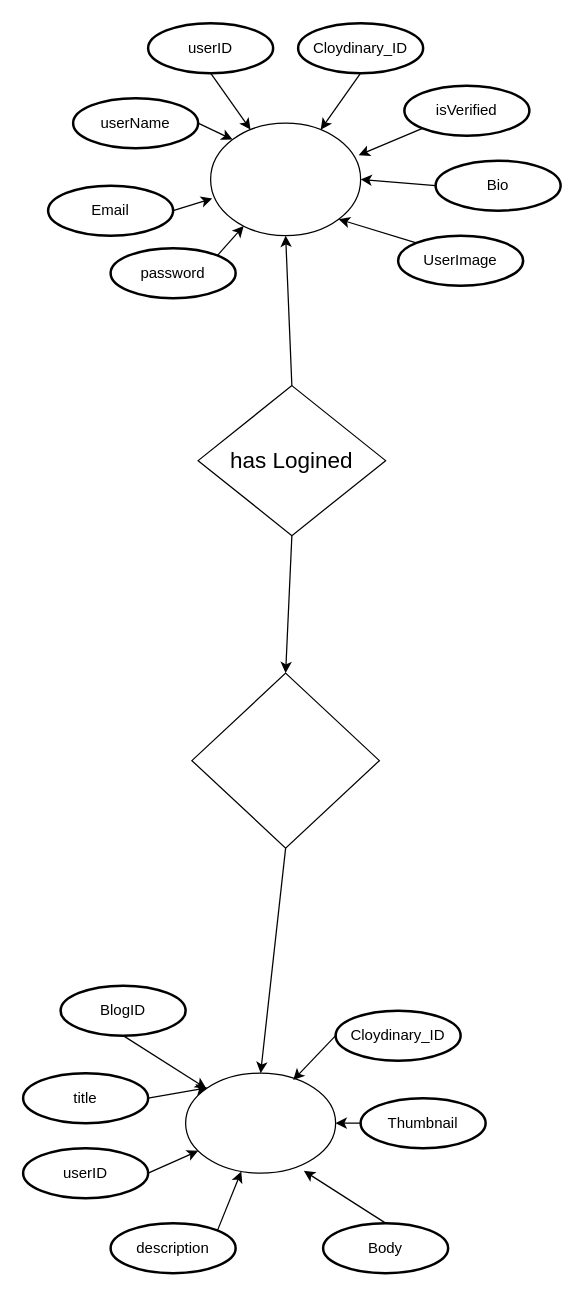
Some shapes in this 583 by 1295 pixel diagram are drawn without their labels. The shapes that lost their labels are listed below. From the top down, each one's centre as x and y in pixels, then its label:
At point 285,179: "User".
At point 285,760: "Manage".
At point 260,1122: "Blog".
